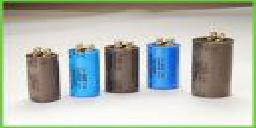Electrolytic Capacitor: (186, 22, 243, 105), (20, 46, 62, 107), (104, 33, 141, 97), (144, 37, 182, 96), (68, 37, 101, 100)
